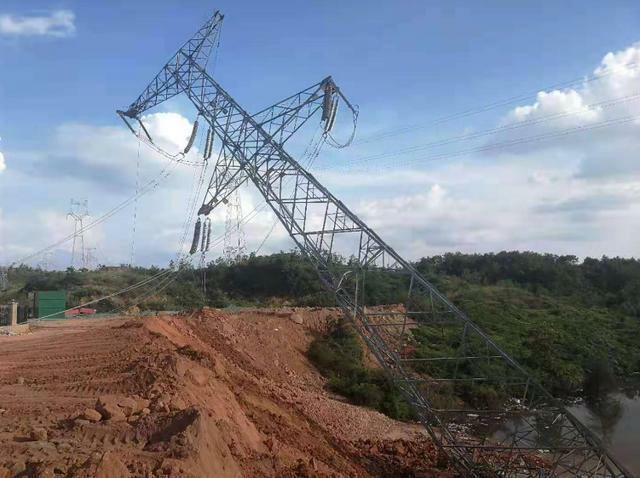power_tower: (127, 10, 629, 478)
